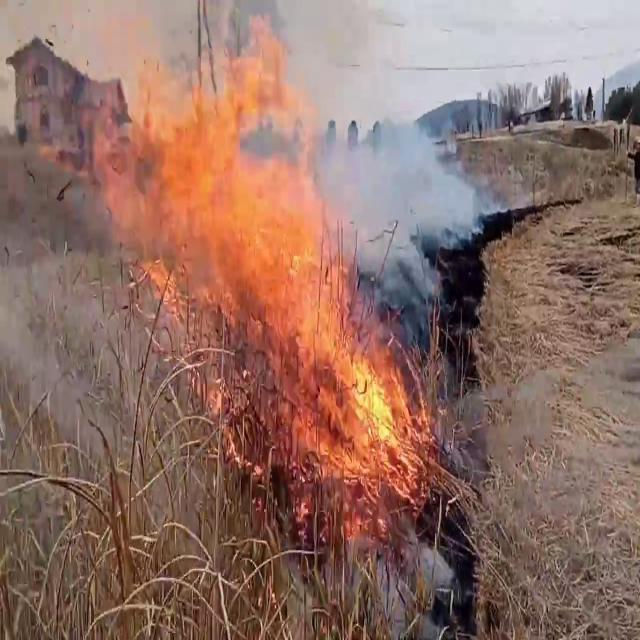Fire: (94, 9, 424, 520)
Smoke: (301, 38, 484, 275)
